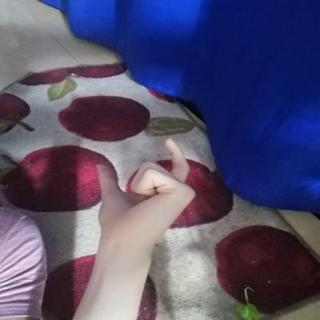NOON: (81, 132, 209, 253)
